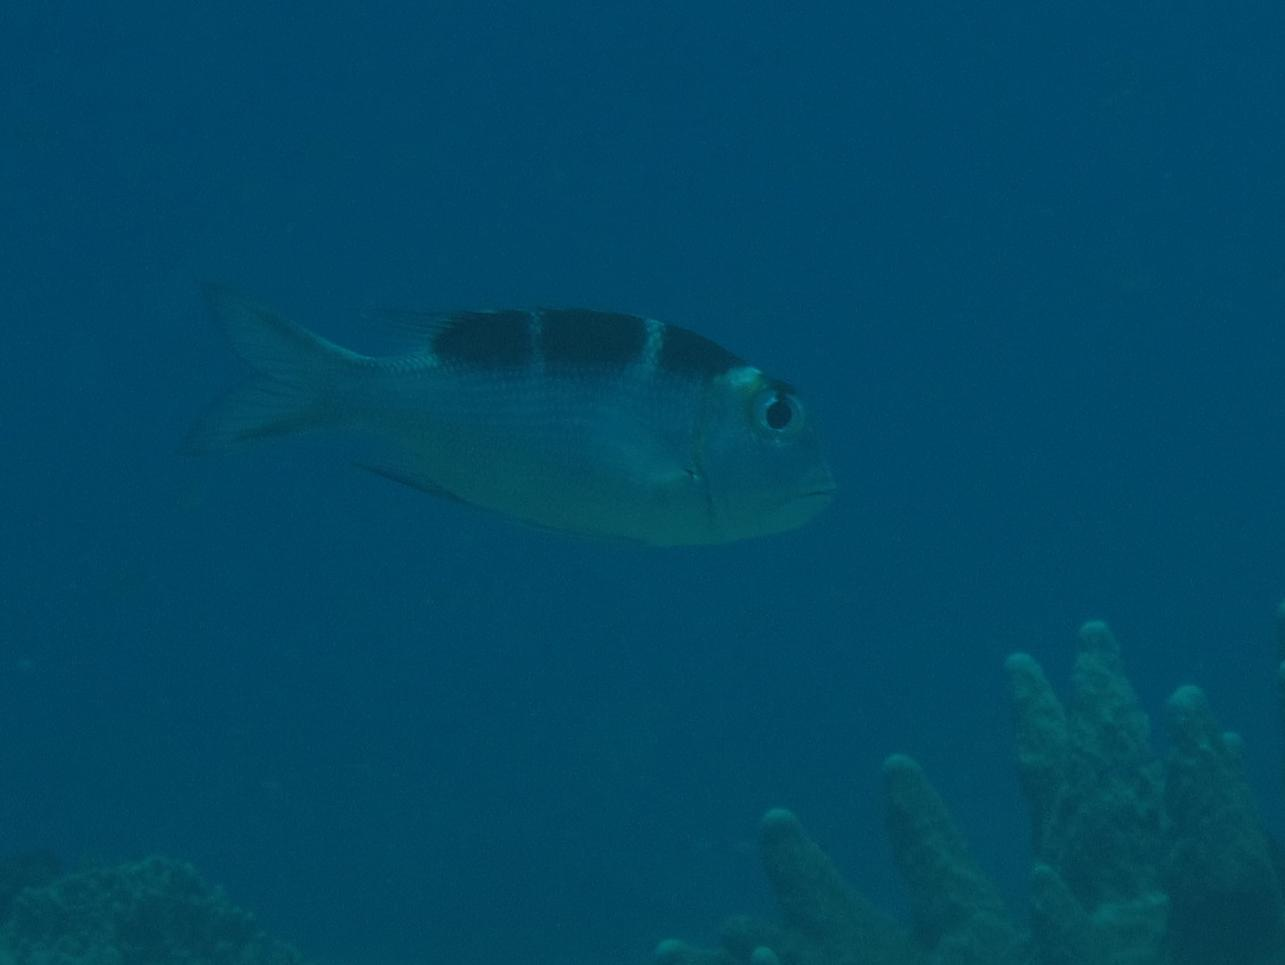Fish: (153, 276, 850, 564)
